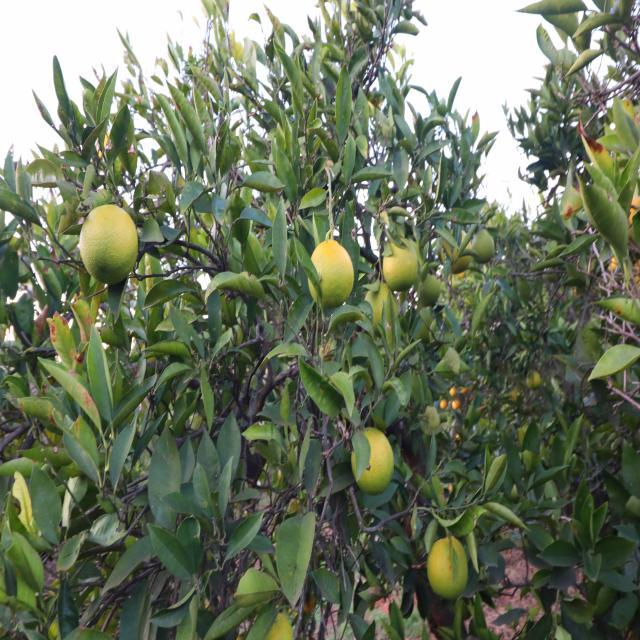Jeruk Belum Matang: (82, 203, 138, 283), (350, 426, 396, 496), (310, 240, 354, 310), (426, 538, 470, 598), (384, 236, 420, 294), (473, 227, 498, 266)
